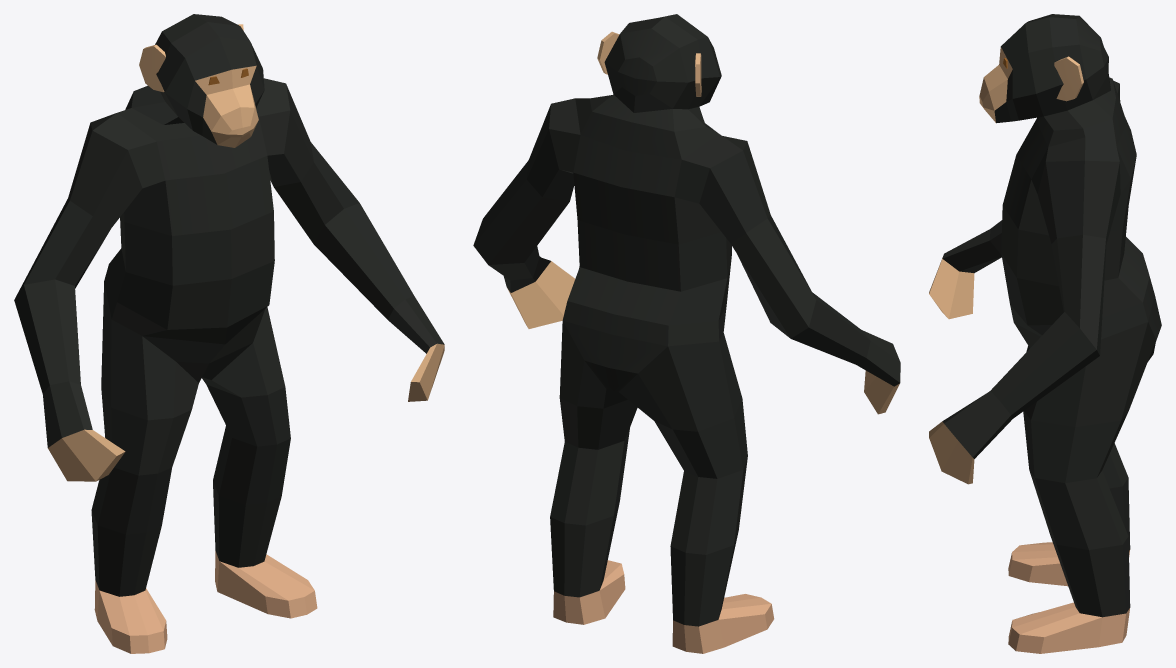
Rendered from Chimpanzee.glb.
3 views of the same model, side by side, from view 1: azimuth 30°, elevation 25°; view 2: azimuth 150°, elevation 25°; view 3: azimuth 270°, elevation 25° (orthographic).
Visible parts, largest first — view 1: Geo_Chimpanzee; view 2: Geo_Chimpanzee; view 3: Geo_Chimpanzee.
Part boxes in pixels (bbox=[...]): Geo_Chimpanzee: bbox=[14, 14, 444, 653]; Geo_Chimpanzee: bbox=[473, 14, 900, 653]; Geo_Chimpanzee: bbox=[929, 14, 1161, 653].
Size of the model in its own units: 81.78 by 118 by 42.09.
1 material, 1 textured.
